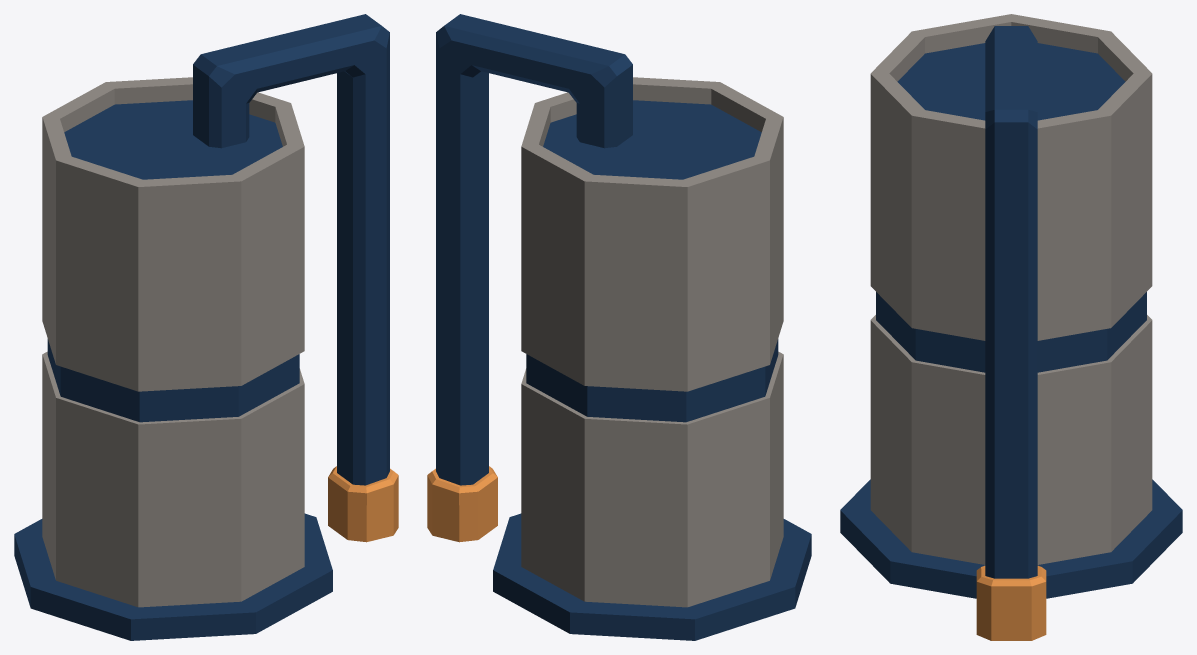
The model's file is Cistern_2.fbx.
3 renders of one model, left to right at view 1: azimuth 30°, elevation 25°; view 2: azimuth 150°, elevation 25°; view 3: azimuth 270°, elevation 25°, orthographic. The views are drawn at different scales.
Visible parts, largest first — view 1: Cistern_2; view 2: Cistern_2; view 3: Cistern_2.
Boxes of the visible parts, x1=… form: Cistern_2: x1=14, y1=14, x2=398, y2=640; Cistern_2: x1=427, y1=14, x2=811, y2=640; Cistern_2: x1=840, y1=14, x2=1182, y2=640.
Size of the model in its own units: 506 by 681 by 403.
